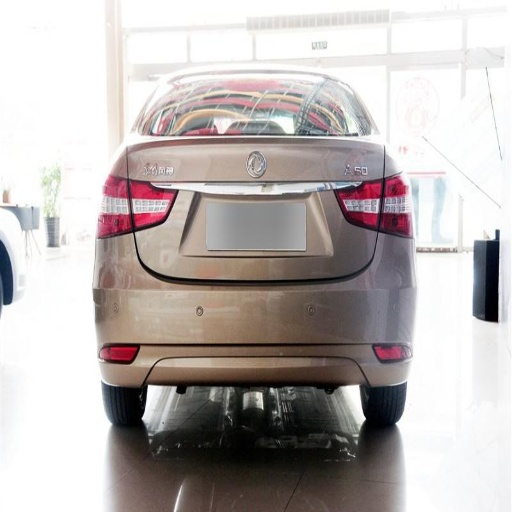back_bumper: (93, 231, 450, 431)
tailgate: (125, 137, 384, 279)
